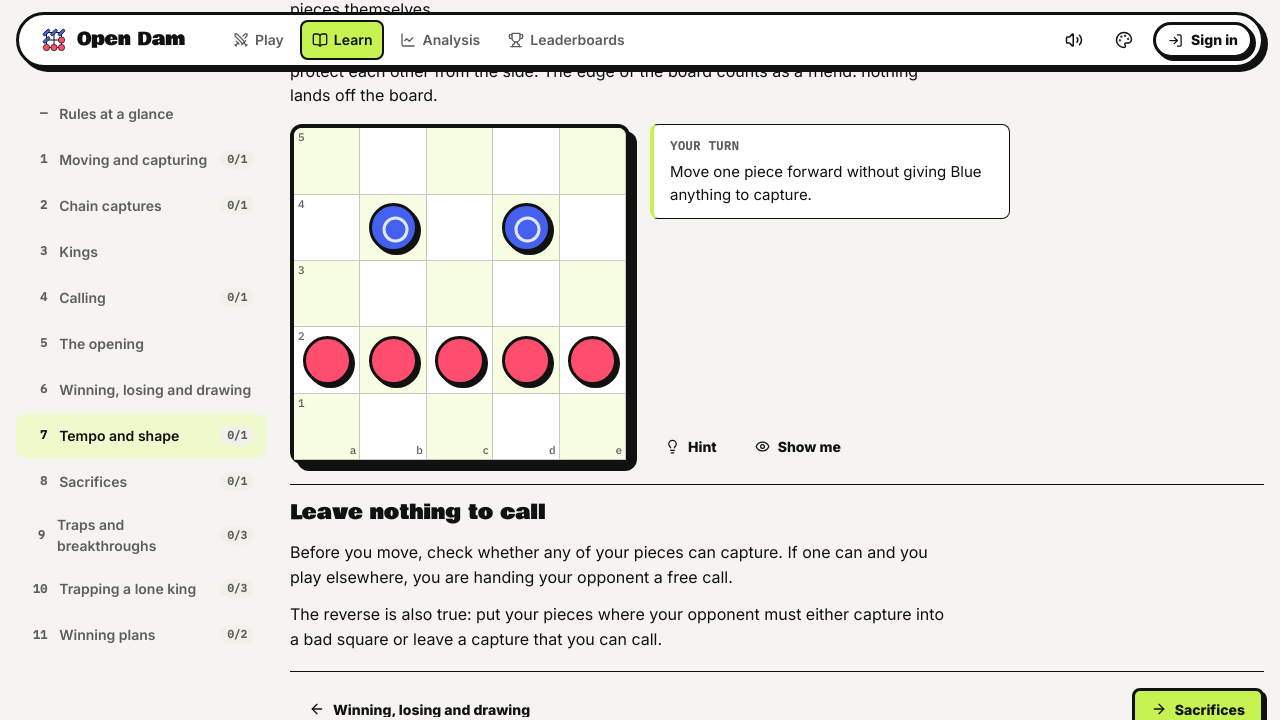
Scenario: learn › a puzzle explains and punishes a wrong move, then counts a solve
This screenshot has width=1280, height=720.
(page scrolled)
Press the mouse on the cell named "b2, Red piece": (394, 361) 360,327 -> 427,394
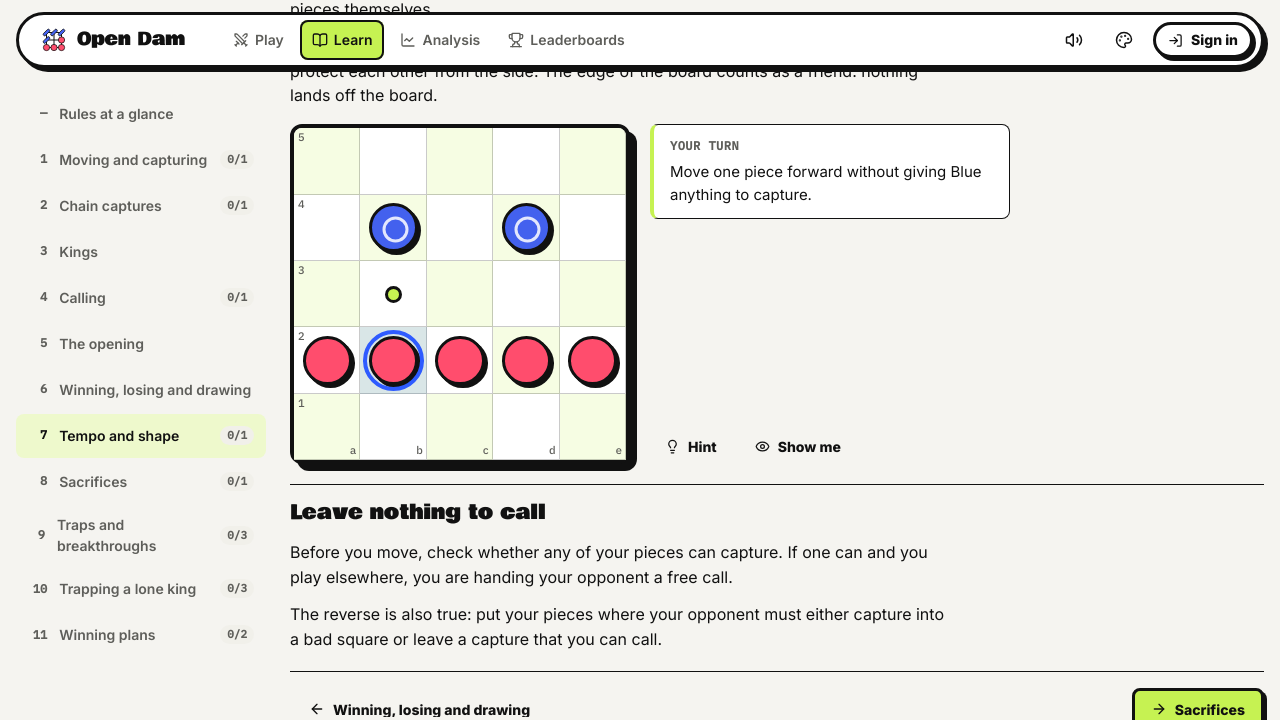
Click the cell named "b3, empty, you can move here": (394, 294) 360,261 -> 427,327
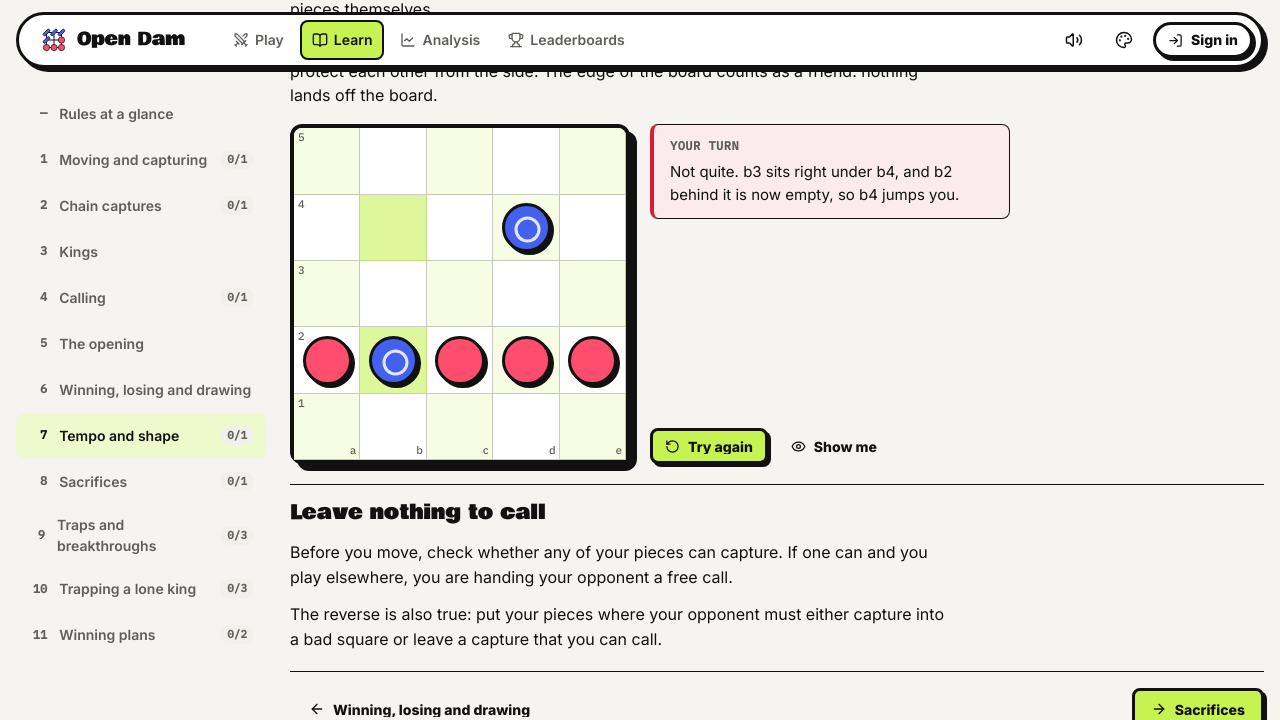
Check: the text "b3 sits right under b4" is shown, box 670,162 -> 959,204
Click the button "Try again": (709, 446) 650,428 -> 768,464
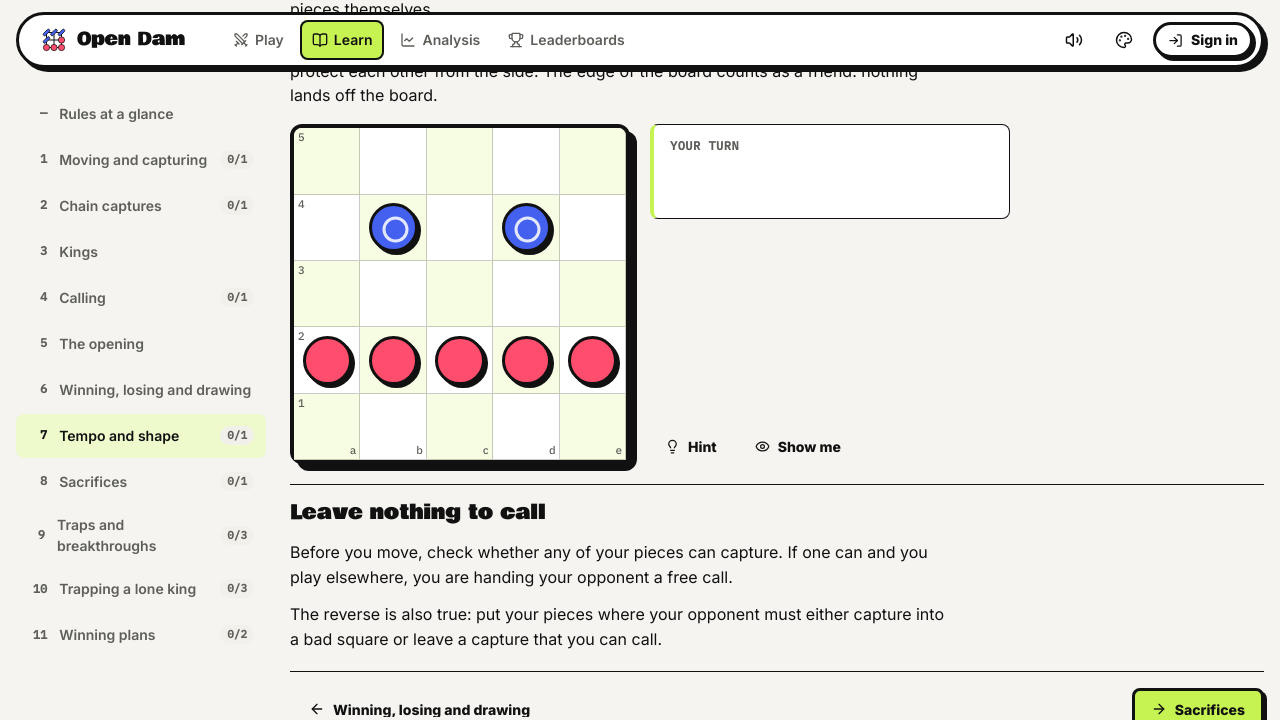
Press the mouse on the cell named "c2, Red piece": (460, 361) 427,327 -> 493,394
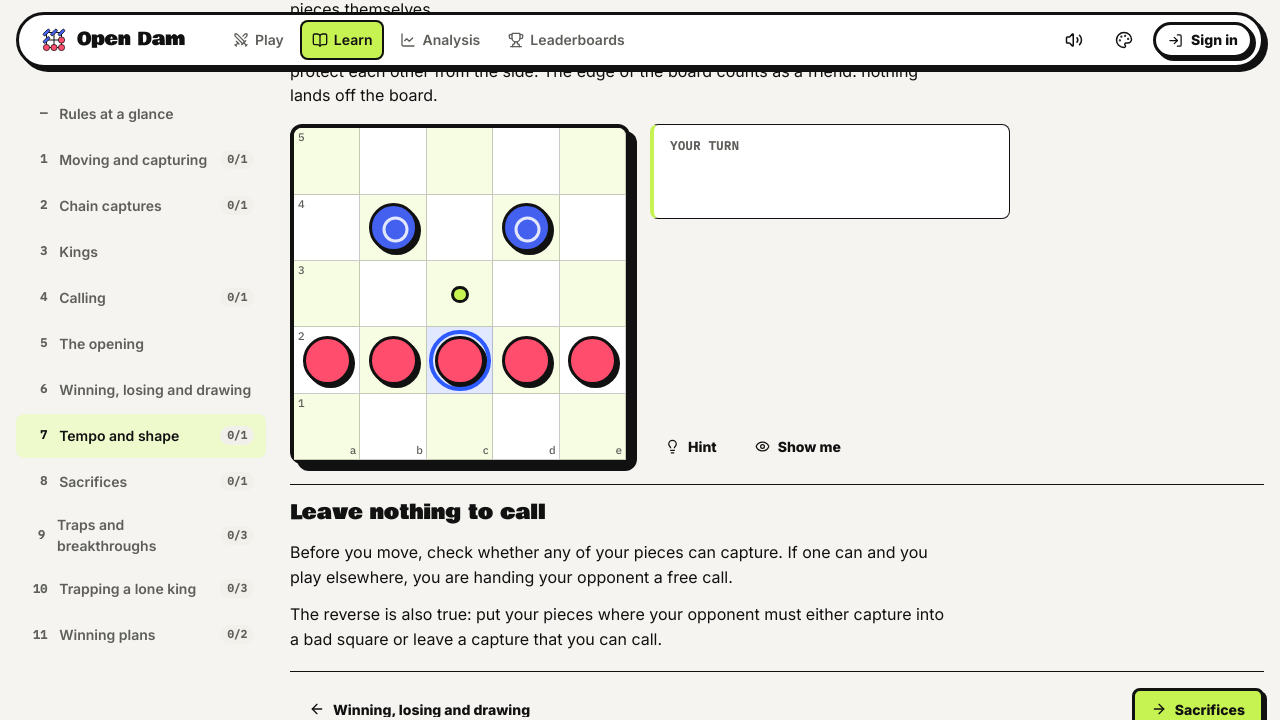
Click the cell named "c3, empty, you can move here": (460, 294) 427,261 -> 493,327
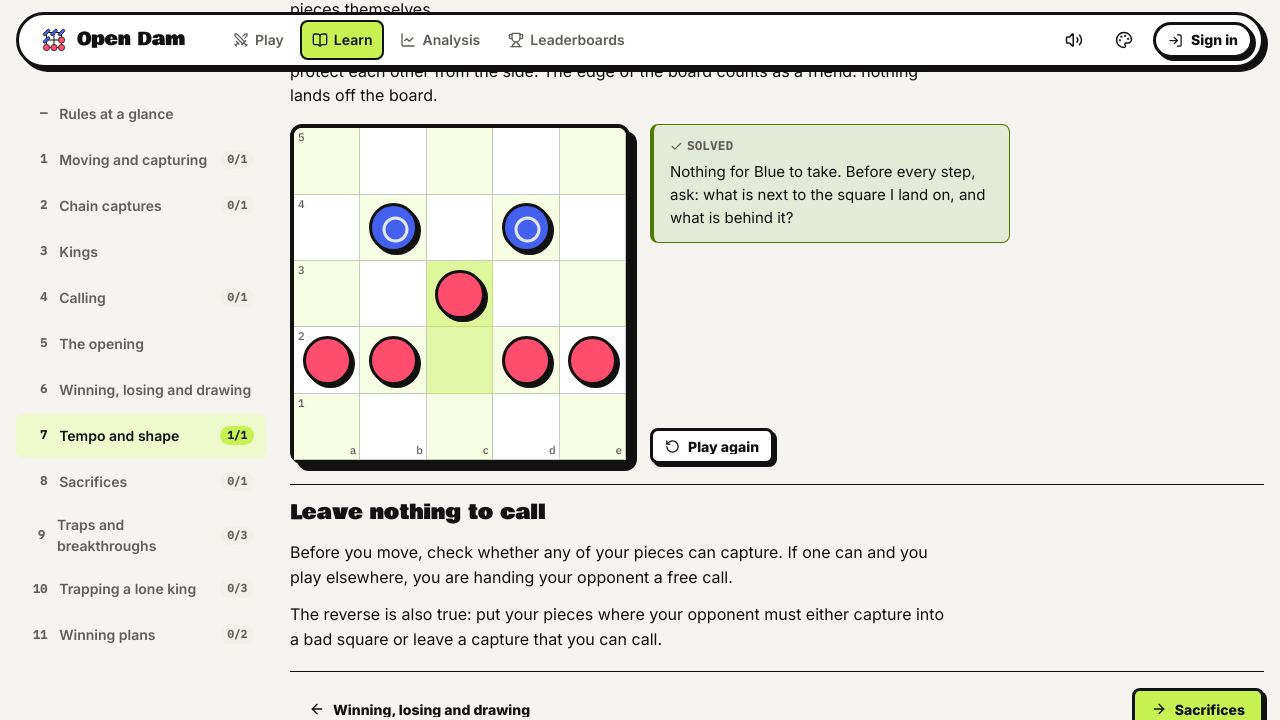
Check: the text "Nothing for Blue to take" is shown, box 670,162 -> 985,227
Check: the text "1/1" is shown, box 220,426 -> 254,446
